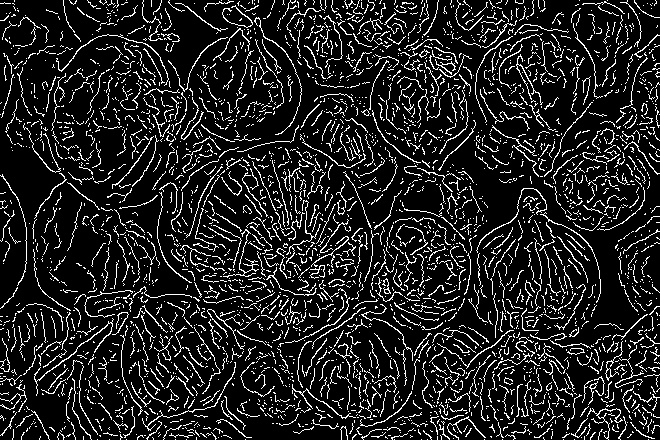red_onion: (196, 140, 374, 330), (53, 30, 200, 208), (471, 191, 605, 349), (93, 291, 242, 420), (473, 21, 589, 168), (290, 324, 419, 436), (370, 34, 473, 173), (182, 17, 305, 133)
